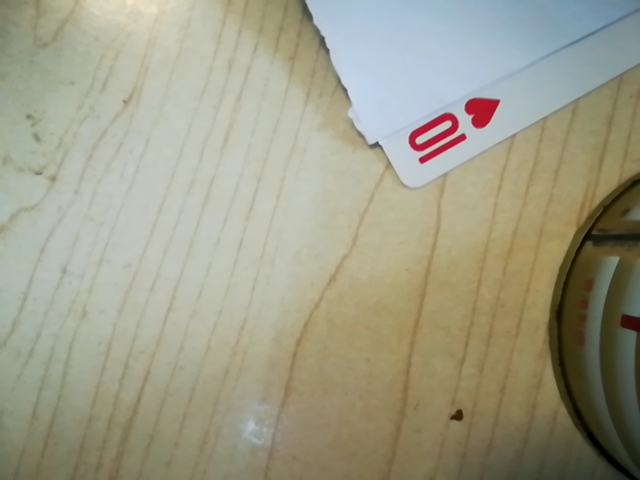hx 10: (395, 94, 504, 174)
